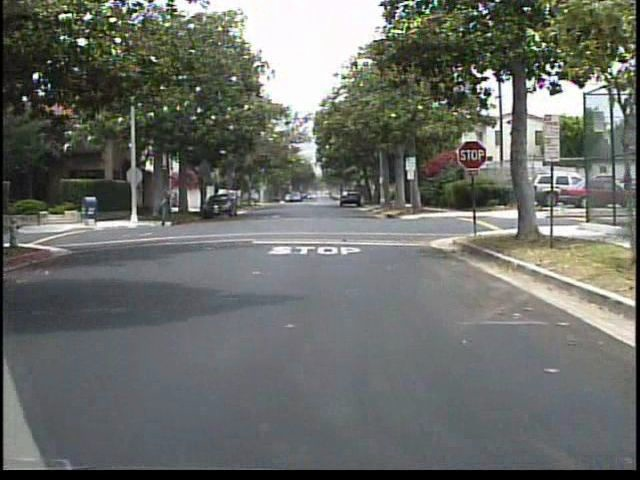person: (156, 180, 180, 230)
